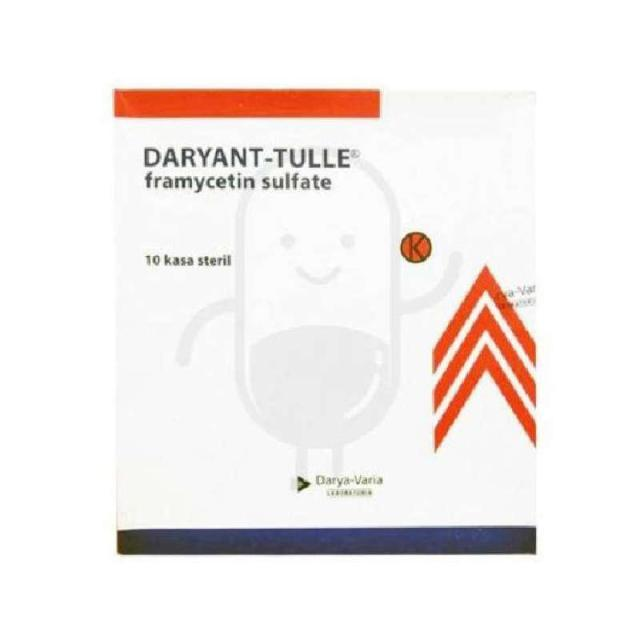drug-name: (139, 144, 355, 172)
